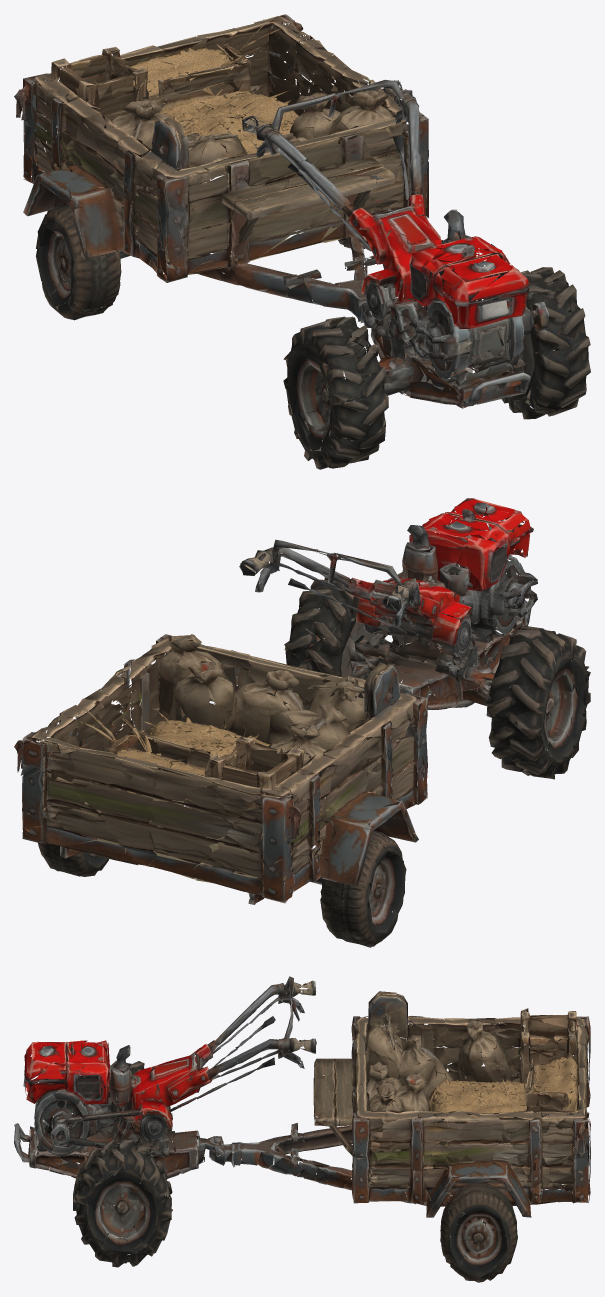
Rendered from PatPat.fbx.
3 views of the same model, one above another, from view 1: azimuth 30°, elevation 25°; view 2: azimuth 150°, elevation 25°; view 3: azimuth 270°, elevation 25° (orthographic). The views are drawn at different scales.
Parts seen in each view (by area): view 1: PatPat; view 2: PatPat; view 3: PatPat.
Part boxes in pixels (x1,y1,x2,y2): PatPat: (14,14,590,469); PatPat: (14,498,590,947); PatPat: (14,976,590,1282).
Bounding box in the file's own units: 1.44 × 1.12 × 2.62.
1 material, 1 textured.
